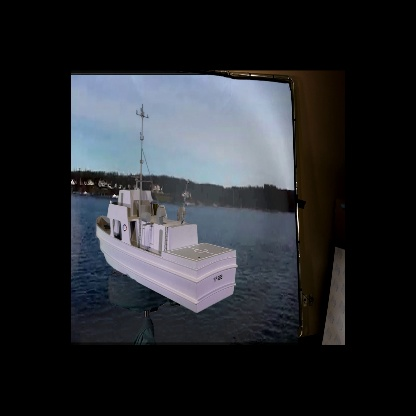YP689: (95, 103, 237, 314)
